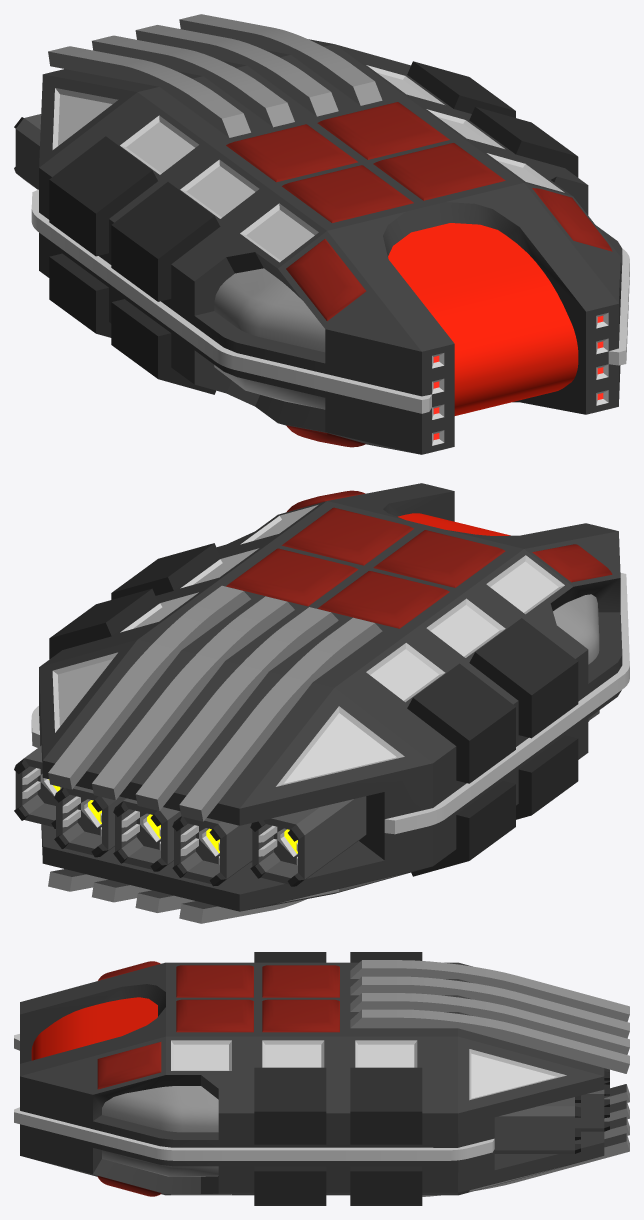
Rendered from Corvette03.fbx.
3 views of the same model, one above another, from view 1: azimuth 30°, elevation 25°; view 2: azimuth 150°, elevation 25°; view 3: azimuth 270°, elevation 25° (orthographic). The views are drawn at different scales.
Parts seen in each view (by area): view 1: Mesh_HD; view 2: Mesh_HD; view 3: Mesh_HD.
Part boxes in pixels (left/top/right/bottom): Mesh_HD: left=14, top=14, right=629, bottom=454; Mesh_HD: left=14, top=483, right=629, bottom=923; Mesh_HD: left=14, top=952, right=629, bottom=1205.
Size of the model in its own units: 192 by 102 by 316.
